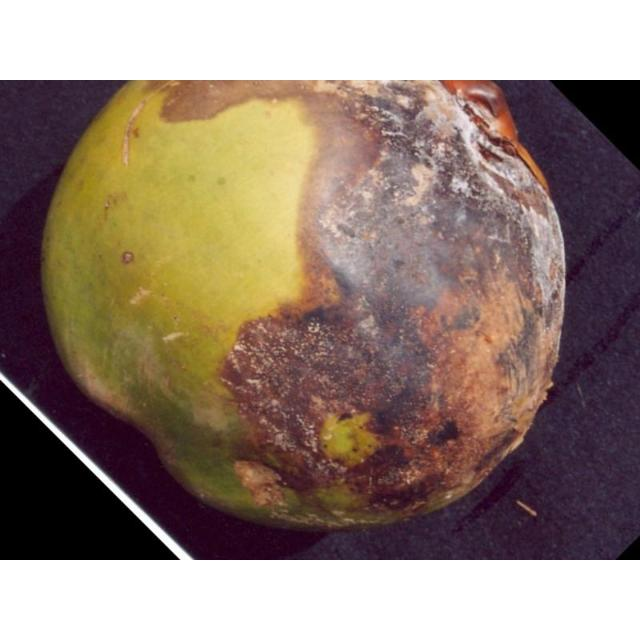damaged: (38, 80, 567, 540)
